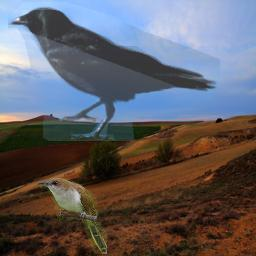Crow: (8, 2, 220, 141)
Cuckoo: (36, 178, 107, 254)
